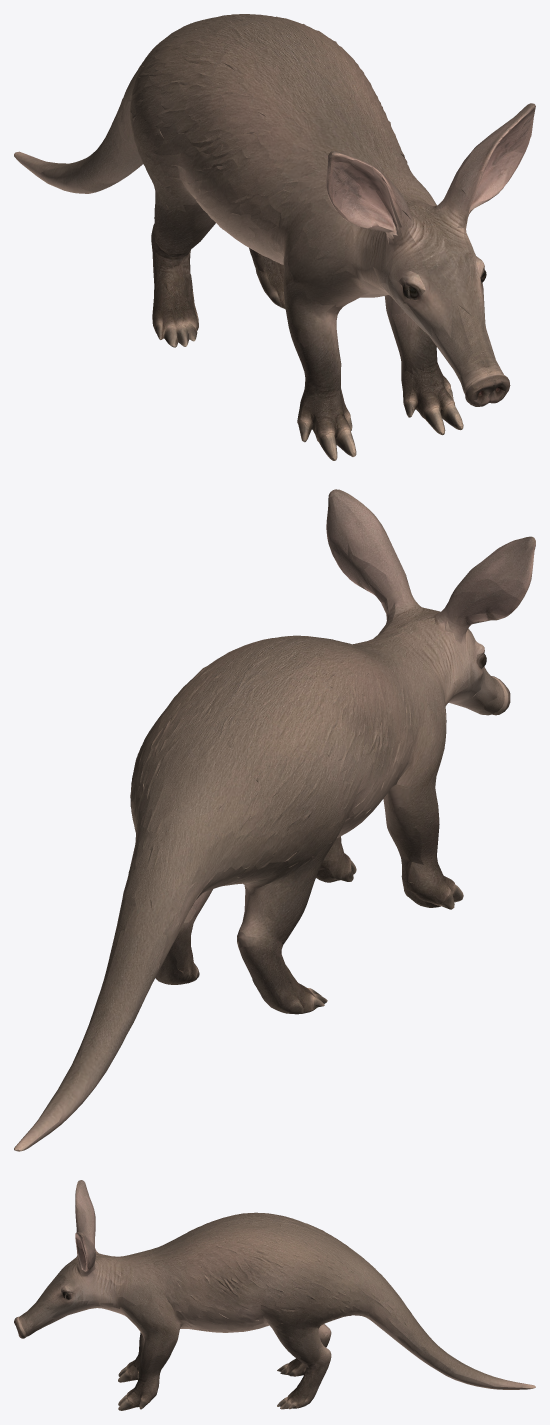
File: aardvark.glb
The picture shows the model from 3 angles, top to bottom: view 1: azimuth 30°, elevation 25°; view 2: azimuth 150°, elevation 25°; view 3: azimuth 270°, elevation 25°; orthographic projection. The views are drawn at different scales.
Size of the model in its own units: 0.4732 by 0.755 by 1.9.
1 material, 1 textured.
